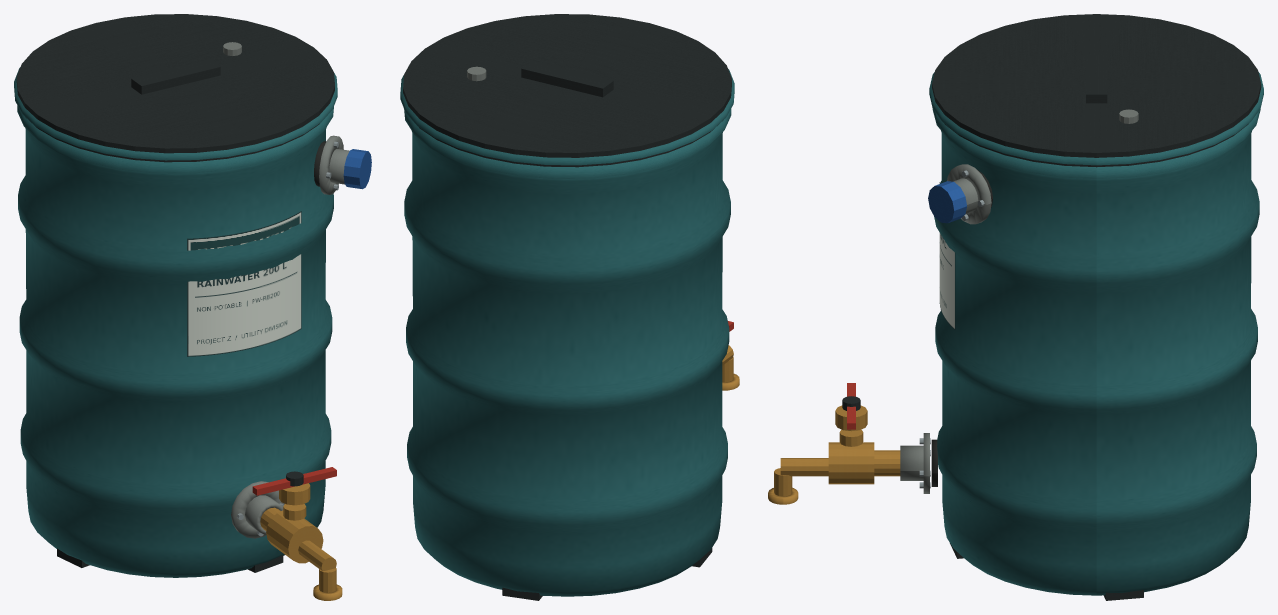
File: PZ_Rain_Barrel_200L.glb
3 renders of one model, left to right at view 1: azimuth 30°, elevation 25°; view 2: azimuth 150°, elevation 25°; view 3: azimuth 270°, elevation 25°, orthographic. The views are drawn at different scales.
Parts seen in each view (by area): view 1: RB200_MoldedHollowBody, RB200_LidDisk, RB200_WrapBrand, RB200_TopRimReinforcement, RB200_LidOuterGrip, RB200_Tap_ValveChamber, RB200_LidGripHandle, RB200_Port_Flange, RB200_Overflow_Cap, RB200_Overflow_Flange, RB200_Port_FemaleSocket, RB200_Tap_SpoutNeck (+2 smaller); view 2: RB200_MoldedHollowBody, RB200_LidDisk, RB200_TopRimReinforcement, RB200_LidOuterGrip, RB200_LidGripHandle; view 3: RB200_MoldedHollowBody, RB200_LidDisk, RB200_TopRimReinforcement, RB200_LidOuterGrip, RB200_Tap_ValveChamber, RB200_WrapBrand, RB200_Overflow_Cap, RB200_Overflow_Flange, RB200_LidGripHandle, RB200_Tap_SpoutNeck, RB200_Port_FemaleSocket, RB200_Tap_ThreadedInlet.
Boxes of the visible parts, x1,y1,x2,y2 form: RB200_MoldedHollowBody: [18, 127, 333, 577]; RB200_LidDisk: [16, 14, 334, 162]; RB200_WrapBrand: [187, 211, 301, 356]; RB200_TopRimReinforcement: [17, 105, 333, 173]; RB200_LidOuterGrip: [14, 67, 337, 160]; RB200_Tap_ValveChamber: [266, 510, 323, 563]; RB200_LidGripHandle: [131, 59, 220, 94]; RB200_Port_Flange: [231, 481, 284, 538]; RB200_Overflow_Cap: [343, 149, 371, 189]; RB200_Overflow_Flange: [319, 135, 343, 194]; RB200_Port_FemaleSocket: [245, 495, 283, 534]; RB200_Tap_SpoutNeck: [298, 540, 336, 571]; RB200_MoldedHollowBody: [404, 131, 730, 596]; RB200_LidDisk: [403, 14, 731, 167]; RB200_TopRimReinforcement: [404, 109, 731, 178]; RB200_LidOuterGrip: [400, 69, 734, 165]; RB200_LidGripHandle: [521, 61, 613, 97]; RB200_MoldedHollowBody: [934, 131, 1259, 595]; RB200_LidDisk: [932, 14, 1261, 167]; RB200_TopRimReinforcement: [932, 109, 1260, 178]; RB200_LidOuterGrip: [929, 72, 1263, 165]; RB200_Tap_ValveChamber: [828, 442, 874, 484]; RB200_WrapBrand: [939, 182, 955, 329]; RB200_Overflow_Cap: [928, 181, 966, 223]; RB200_Overflow_Flange: [947, 164, 991, 224]; RB200_LidGripHandle: [1086, 55, 1107, 103]; RB200_Tap_SpoutNeck: [780, 458, 828, 476]; RB200_Port_FemaleSocket: [900, 445, 923, 480]; RB200_Tap_ThreadedInlet: [874, 450, 900, 476].
Size of the model in its own units: 0.622 by 0.9525 by 0.922.
Materials: 1 (1 with a texture image).
